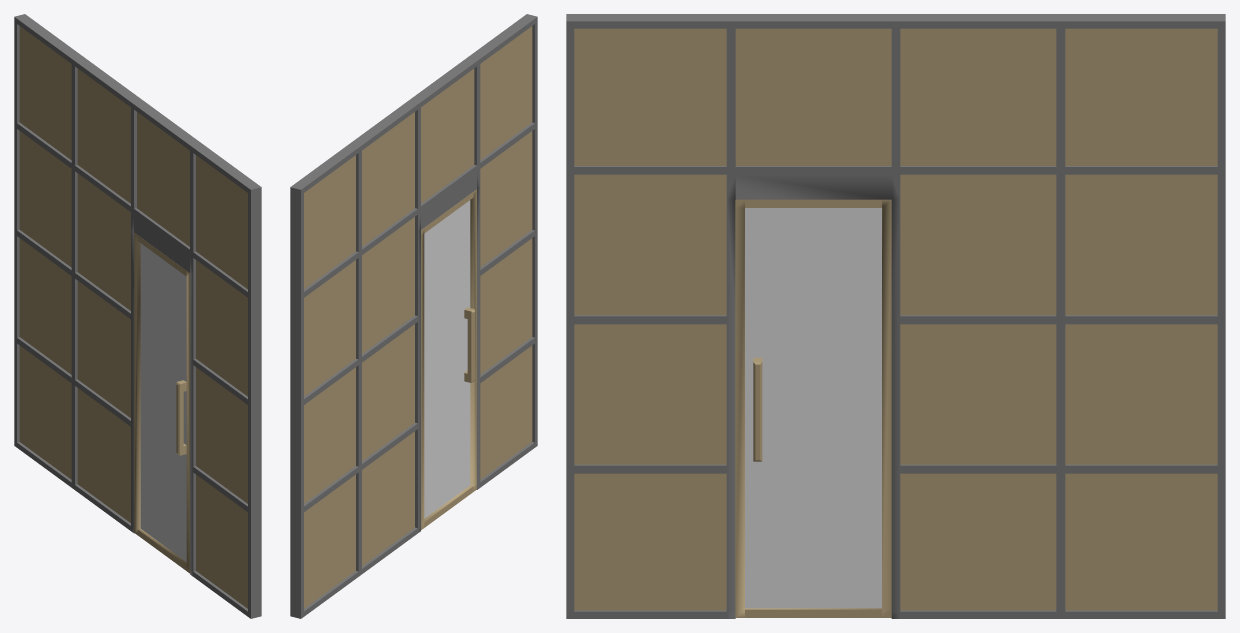
Rendered from OfficeSeperation.FBX.
3 renders of one model, left to right at view 1: azimuth 30°, elevation 25°; view 2: azimuth 150°, elevation 25°; view 3: azimuth 270°, elevation 25°, orthographic. The views are drawn at different scales.
Visible parts, largest first — view 1: Wall_Glass, Door; view 2: Wall_Glass, Door; view 3: Wall_Glass, Door.
Part boxes in pixels (left/top/right/bottom): Wall_Glass: left=14, top=14, right=261, bottom=618; Door: left=134, top=232, right=189, bottom=573; Wall_Glass: left=290, top=14, right=537, bottom=618; Door: left=421, top=189, right=476, bottom=529; Wall_Glass: left=566, top=14, right=1225, bottom=618; Door: left=735, top=199, right=891, bottom=617.
Bounding box in the file's own units: 6.04 × 118 × 118.
